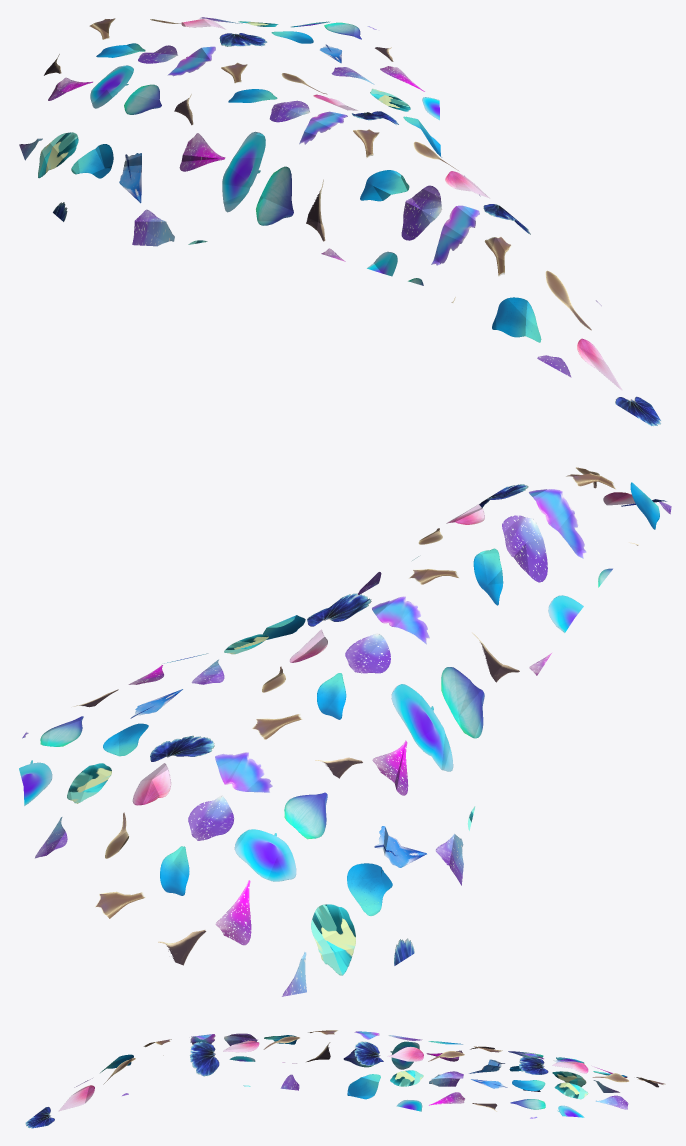
Rendered from Petal3 1.fbx.
3 renders of one model, top to bottom at view 1: azimuth 30°, elevation 25°; view 2: azimuth 150°, elevation 25°; view 3: azimuth 270°, elevation 25°, orthographic. The views are drawn at different scales.
Parts seen in each view (by area): view 1: Petal3; view 2: Petal3; view 3: Petal3.
Part boxes in pixels (box(x1,y1,x2,y2)): Petal3: box(19, 17, 660, 426); Petal3: box(19, 467, 671, 996); Petal3: box(25, 1030, 665, 1128).
Bounding box in the file's own units: 35.48 × 17.38 × 95.89.
